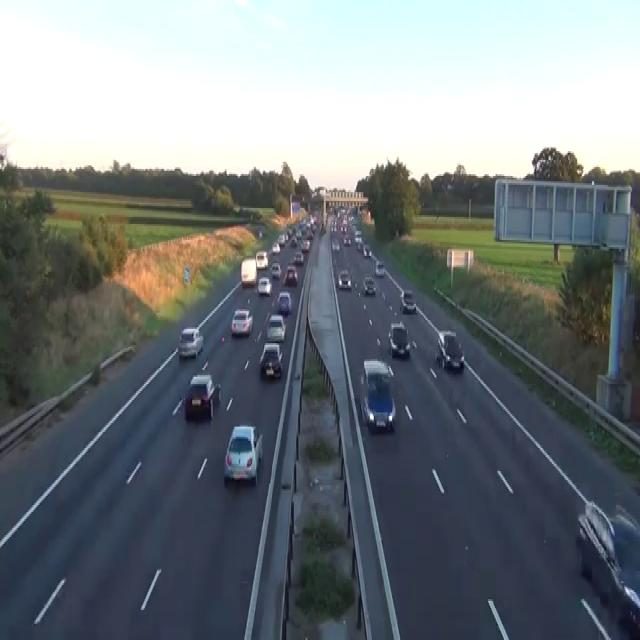Car: (576, 500, 639, 638), (577, 499, 621, 586), (579, 585, 639, 638), (360, 359, 396, 432), (223, 425, 263, 485), (184, 374, 221, 419), (435, 329, 464, 370), (363, 359, 394, 393), (259, 341, 283, 379), (178, 326, 203, 358), (388, 322, 410, 357), (230, 308, 253, 336), (266, 313, 285, 341), (399, 288, 416, 313), (277, 290, 291, 314), (283, 263, 297, 286), (337, 268, 351, 290), (257, 276, 272, 295), (362, 276, 376, 295), (255, 250, 268, 268), (271, 261, 281, 279), (375, 260, 384, 276), (293, 251, 303, 265), (300, 238, 310, 251), (331, 237, 340, 250), (363, 244, 371, 258), (354, 229, 362, 242), (272, 242, 280, 254), (277, 233, 285, 245), (342, 235, 351, 245), (356, 238, 363, 249), (330, 221, 337, 231), (291, 237, 297, 247), (258, 228, 262, 238)
Truck: (240, 258, 256, 286)
